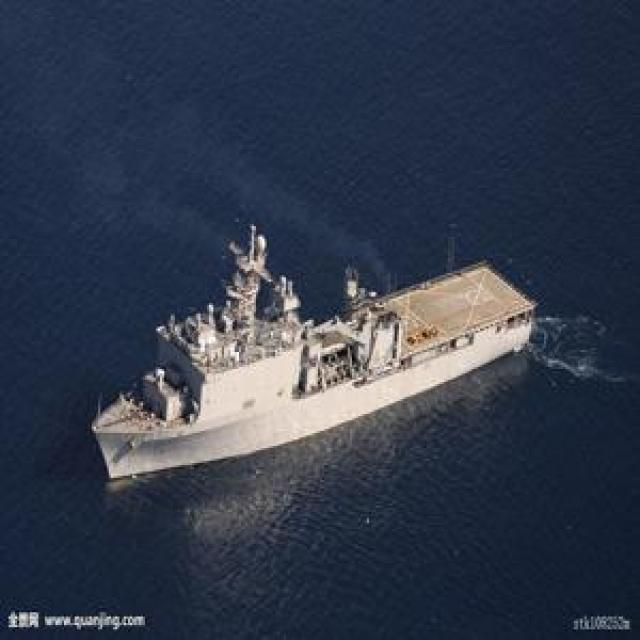navalvessels: (67, 212, 538, 491)
